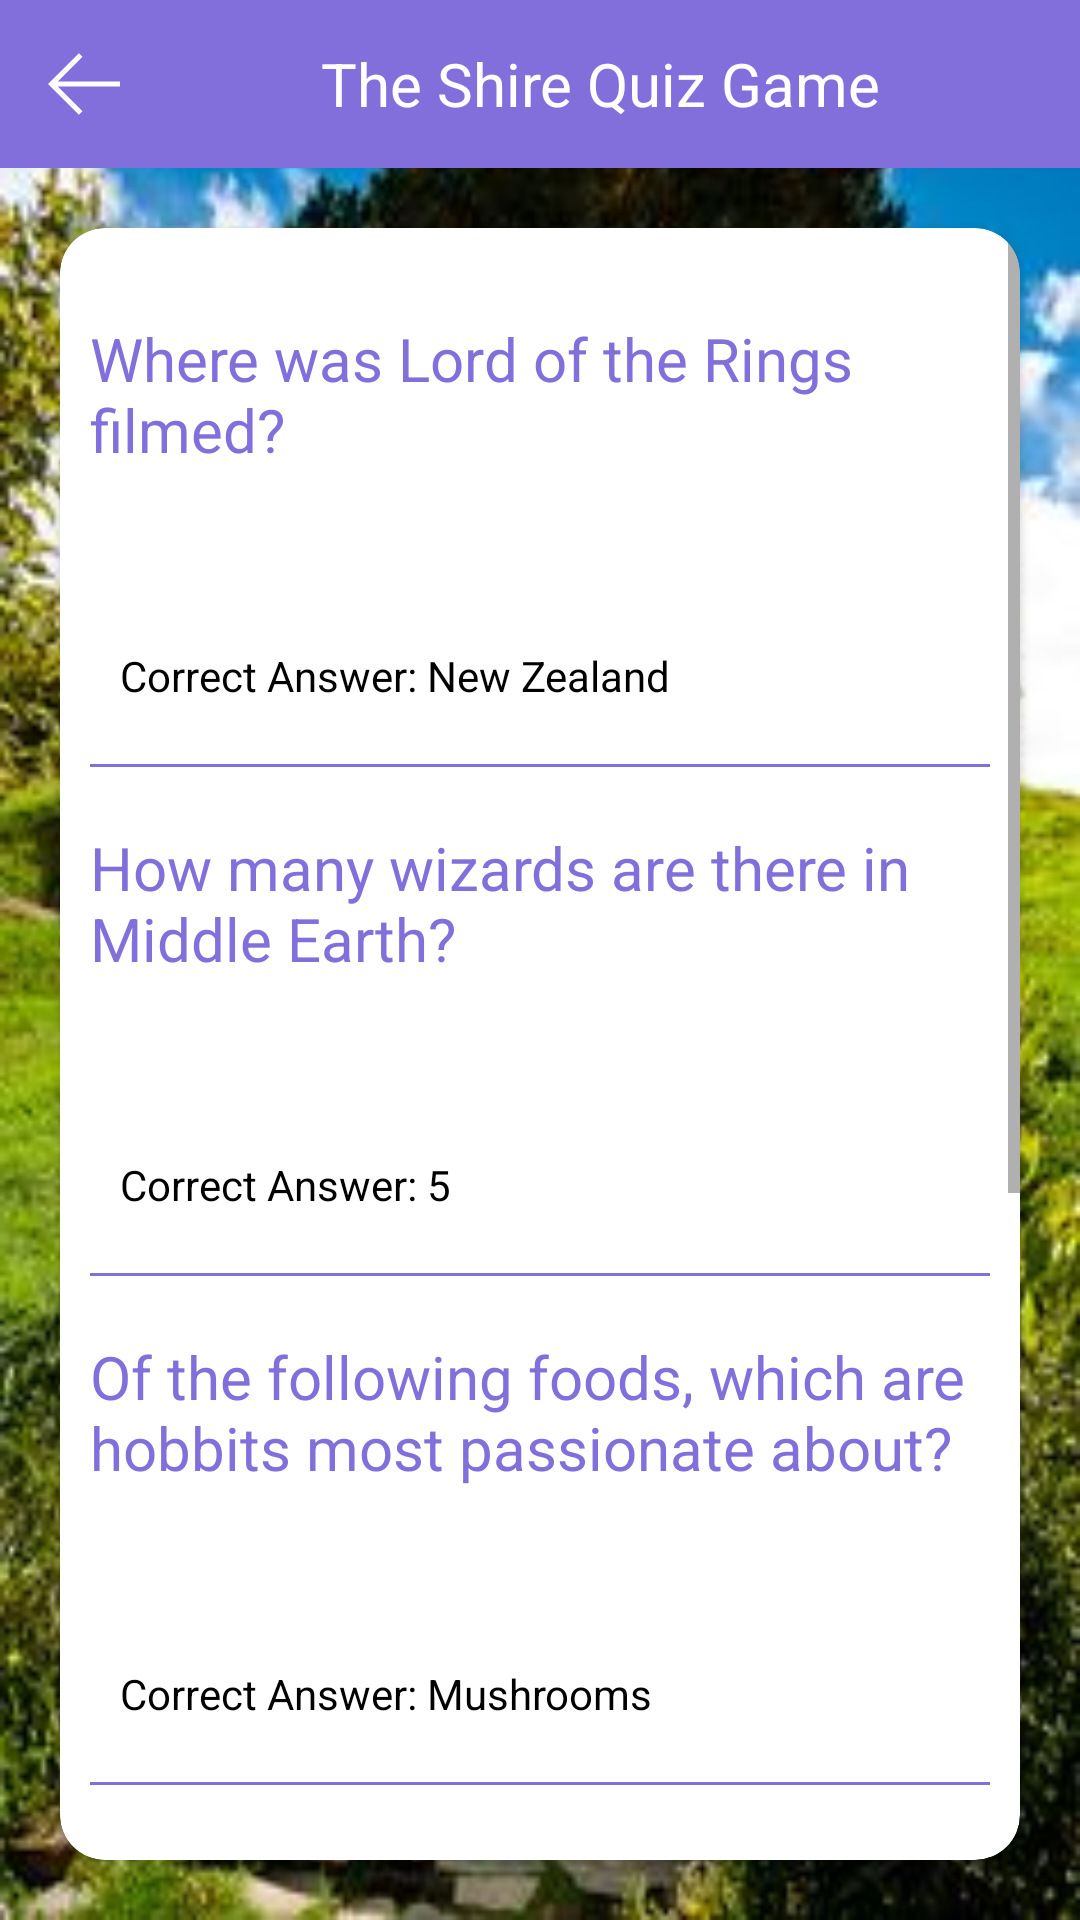

Icons on this 1080px x 1920px Android screen, each with its box as (x1, y1, x2, y2):
left arrow: (48, 53, 120, 115)
